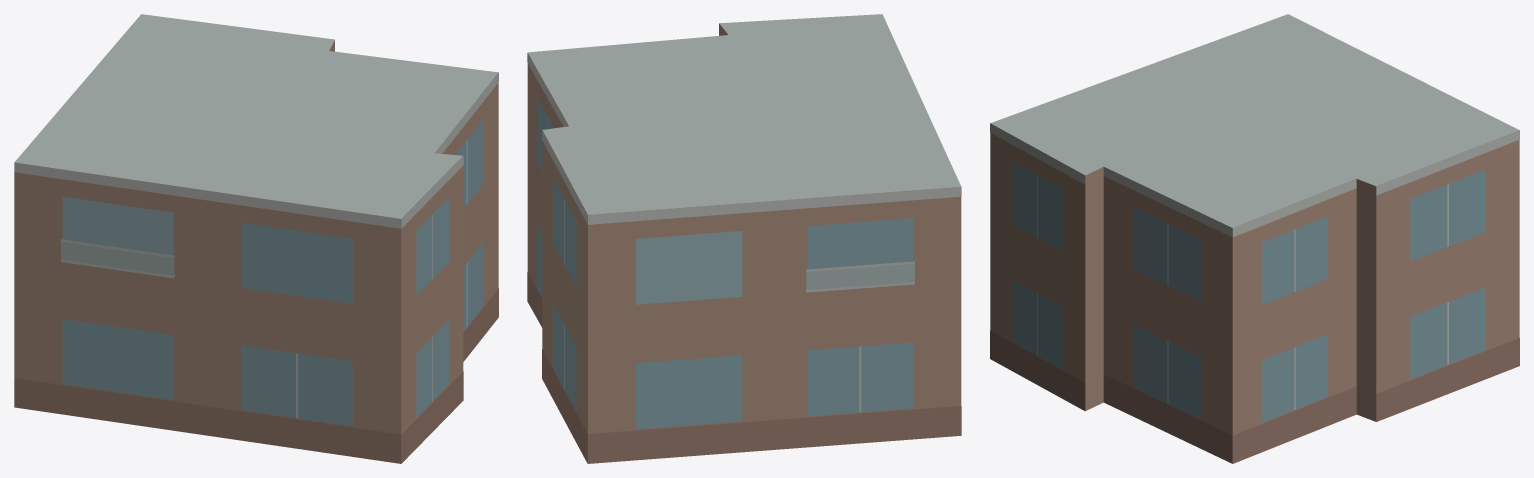
The model's file is survey-upis-32889018.glb.
3 renders of one model, left to right at view 1: azimuth 30°, elevation 25°; view 2: azimuth 150°, elevation 25°; view 3: azimuth 270°, elevation 25°, orthographic. The views are drawn at different scales.
Visible parts, largest first — view 1: survey-upis-32889018.tmp; view 2: survey-upis-32889018.tmp; view 3: survey-upis-32889018.tmp.
Part boxes in pixels (x1,y1,x2,y2): survey-upis-32889018.tmp: (14,14,498,463); survey-upis-32889018.tmp: (527,14,961,463); survey-upis-32889018.tmp: (990,14,1519,463).
Bounding box in the file's own units: 11.89 × 6.1 × 12.42.
